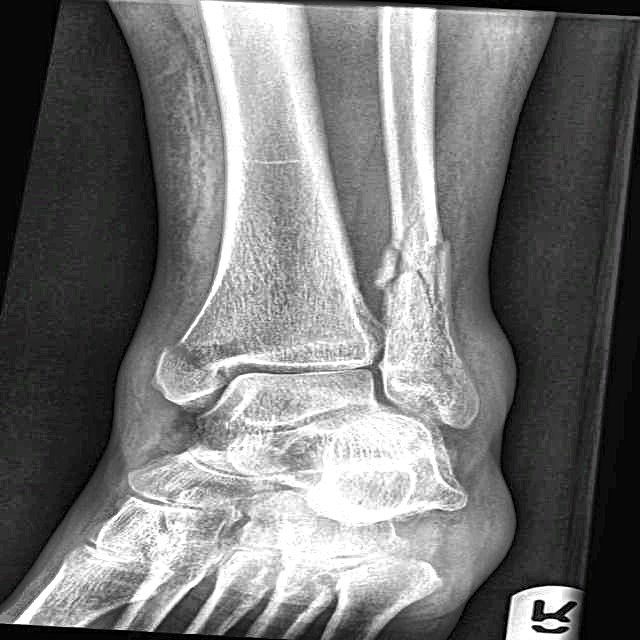Comminuted: (368, 226, 472, 316)
Greenstick: (140, 328, 267, 386)
